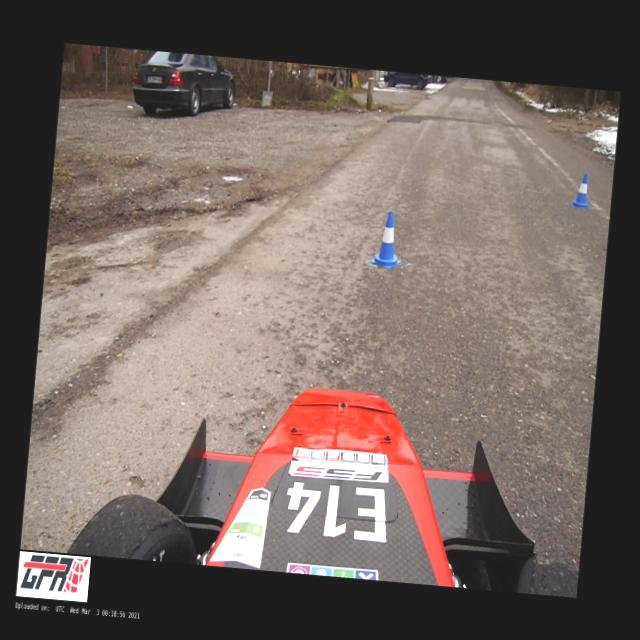blue_cone: (370, 210, 404, 269), (572, 172, 592, 208)
